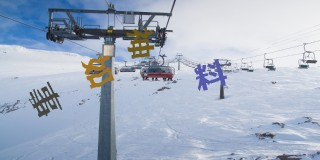事: (27, 80, 63, 118)
如: (79, 55, 114, 90)
料: (192, 57, 228, 92)
神: (124, 27, 156, 59)
